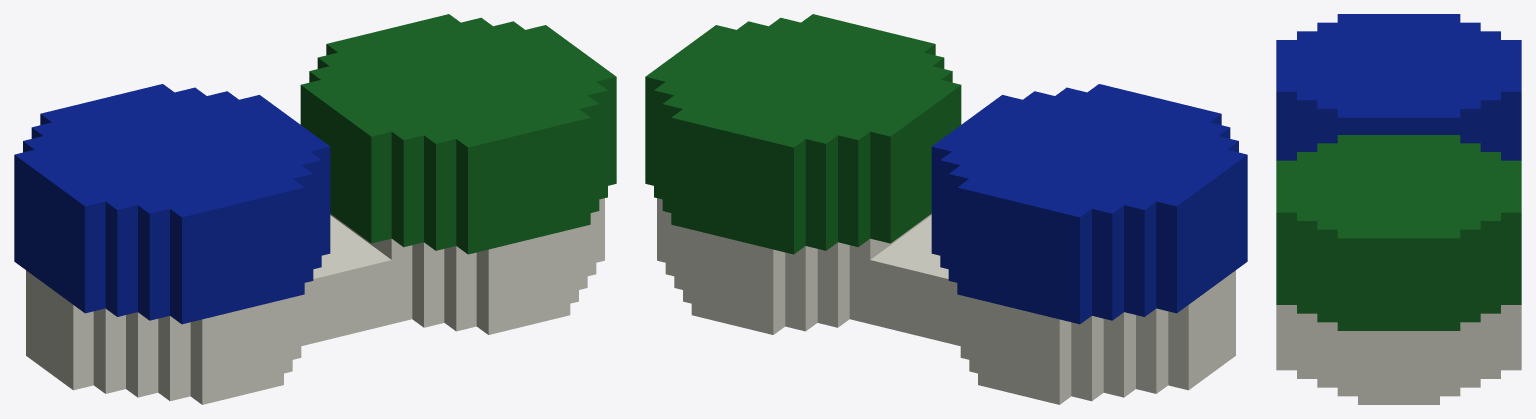
Rendered from contact_lenses.glb.
3 renders of one model, left to right at view 1: azimuth 30°, elevation 25°; view 2: azimuth 150°, elevation 25°; view 3: azimuth 270°, elevation 25°, orthographic. The views are drawn at different scales.
Parts seen in each view (by area): view 1: contact_lenses:compound; view 2: contact_lenses:compound; view 3: contact_lenses:compound.
Part boxes in pixels (x1,y1,x2,y2): contact_lenses:compound: [14, 14, 616, 404]; contact_lenses:compound: [645, 14, 1247, 404]; contact_lenses:compound: [1276, 14, 1521, 404].
Bounding box in the file's own units: 0.052 × 0.018 × 0.024.
